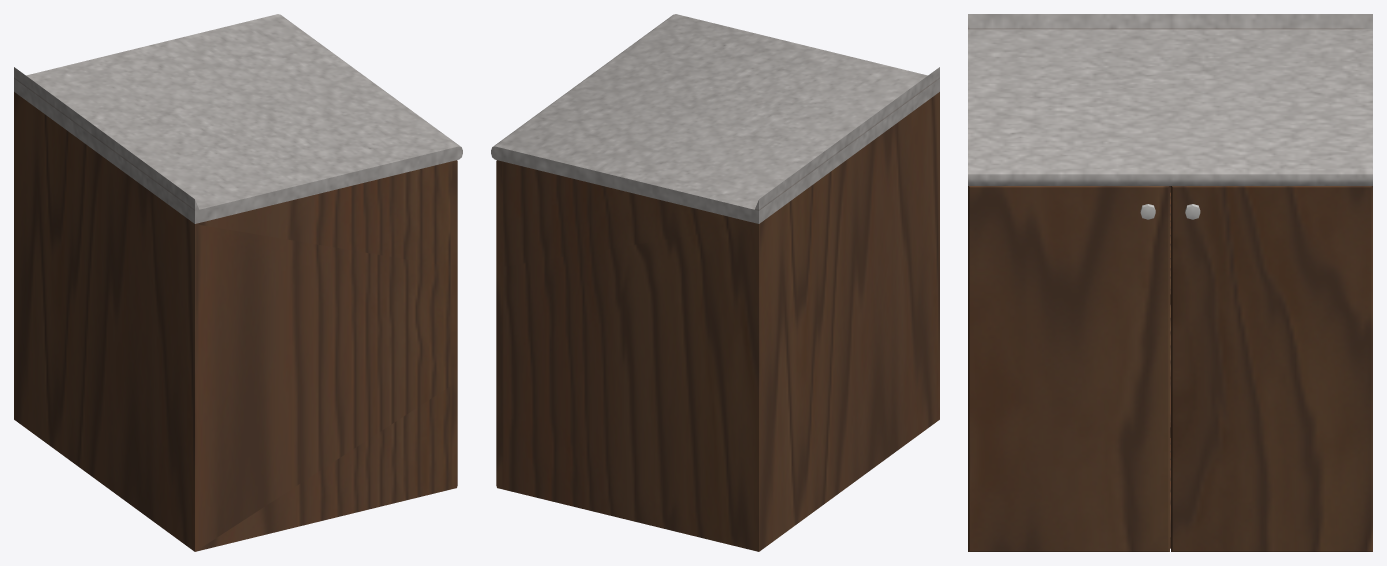
File: Cabinet2.obj
The picture shows the model from 3 angles, left to right: view 1: azimuth 30°, elevation 25°; view 2: azimuth 150°, elevation 25°; view 3: azimuth 270°, elevation 25°; orthographic projection. The views are drawn at different scales.
Visible parts, largest first — view 1: KitchenCabinet2; view 2: KitchenCabinet2; view 3: KitchenCabinet2.
Boxes of the visible parts, box(x1,y1,x2,y2) form: KitchenCabinet2: box(14, 14, 462, 551); KitchenCabinet2: box(491, 14, 939, 551); KitchenCabinet2: box(968, 14, 1372, 551).
Size of the model in its own units: 0.6921 by 0.8606 by 0.8.
